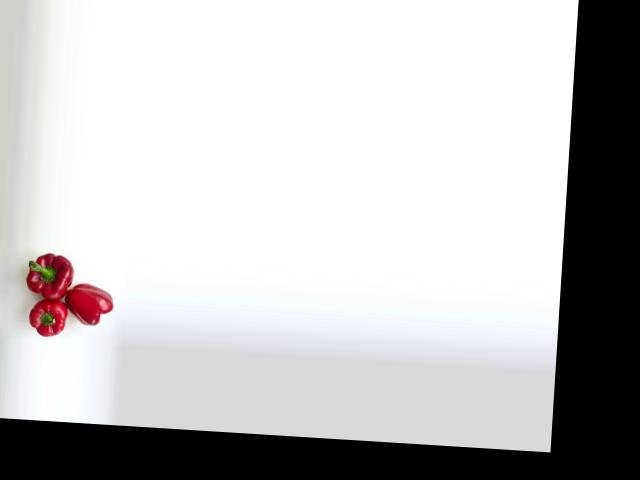bell_pepper: (61, 278, 120, 335)
